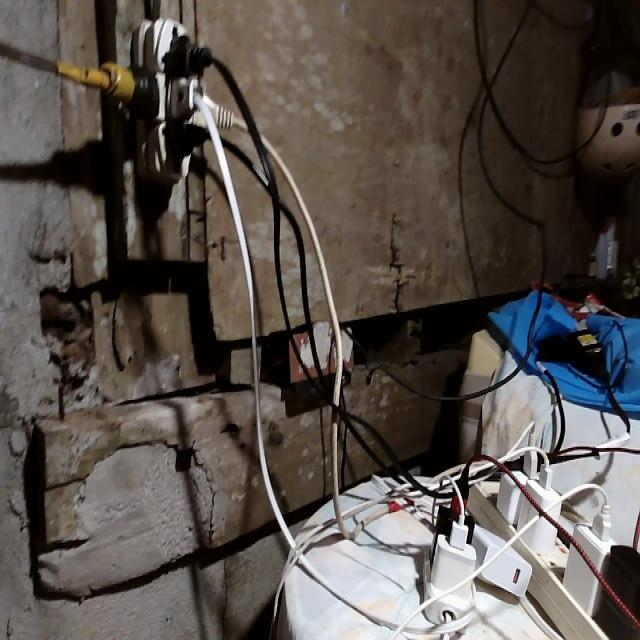-: (60, 15, 245, 184)
